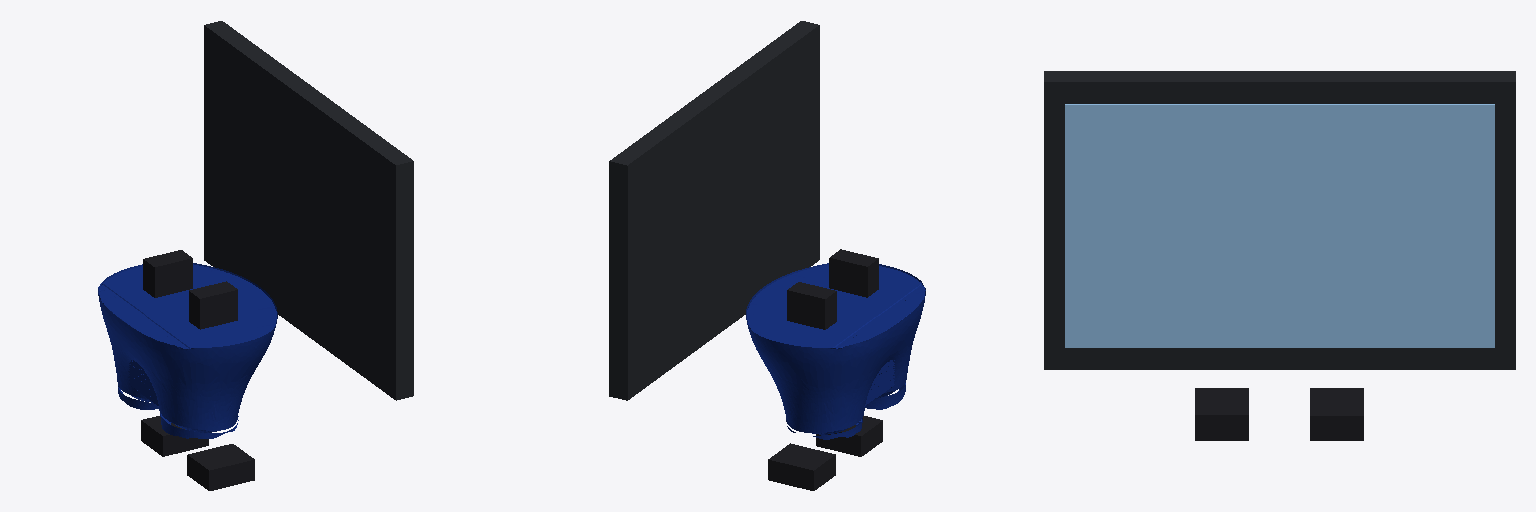
robot.urdf — haetburi:
<?xml version="1.0"?>
<!-- Haetburi biped (v17_sts3032_w4) - generated by tools/build_model.py, do not edit by hand -->
<robot name="haetburi">
  <mujoco>
    <compiler meshdir="." balanceinertia="true" discardvisual="false" strippath="false" fusestatic="false"/>
  </mujoco>
  <material name="display"><color rgba="0.18 0.19 0.21 1"/></material>
  <material name="screen"><color rgba="0.62 0.80 0.95 1"/></material>
  <material name="shell"><color rgba="0.106 0.216 0.541 1"/></material>
  <material name="motor"><color rgba="0.15 0.15 0.17 1"/></material>
  <material name="foot"><color rgba="0.25 0.25 0.28 1"/></material>
  <link name="world"/>
  <joint name="floating_base" type="floating">
    <parent link="world"/><child link="pelvis"/>
    <origin xyz="0 0 0" rpy="0 0 0"/>
  </joint>
  <link name="pelvis">
    <inertial>
      <origin xyz="-0.00610925 9.50716e-06 0.0405152" rpy="0 0 0"/>
      <mass value="0.292915"/>
      <inertia ixx="0.00030735" ixy="8.35174e-07" ixz="8.23488e-05" iyy="0.000357816" iyz="8.25968e-07" izz="0.000307664"/>
    </inertial>
    <visual><origin xyz="0 0 0" rpy="0 0 0"/><geometry><mesh filename="meshes/pelvis.stl"/></geometry><material name="shell"/></visual>
    <visual><origin xyz="0.00600244 0.0226798 0.05175" rpy="0 0 0"/><geometry><box size="0.023 0.012 0.0275"/></geometry><material name="motor"/></visual>
    <visual><origin xyz="0.00699756 -0.0229596 0.05175" rpy="0 0 0"/><geometry><box size="0.023 0.012 0.0275"/></geometry><material name="motor"/></visual>
    <collision><origin xyz="0.0069175 -0.000135522 0.0201274" rpy="0 0 0"/><geometry><box size="0.0829374 0.110136 0.0565319"/></geometry></collision>
  </link>
  <link name="torso">
    <inertial>
      <origin xyz="0.0238953 7.63336e-05 0.103132" rpy="0 0 0"/>
      <mass value="1.599"/>
      <inertia ixx="0.0205747" ixy="-4.70239e-05" ixz="0.00355319" iyy="0.0202897" iyz="-5.01842e-05" izz="0.0117163"/>
    </inertial>
    <visual><origin xyz="0 0 0" rpy="0 0 0"/><geometry><mesh filename="meshes/torso.stl"/></geometry><material name="shell"/></visual>
    <visual><origin xyz="0.0778284 0 0.0371177" rpy="0 0 0"/><geometry><box size="0.010948 0.200396 0.13547"/></geometry><material name="display"/></visual>
    <visual><origin xyz="0.0833024 0 0.0371177" rpy="0 0 0"/><geometry><box size="0.0004 0.182784 0.11424"/></geometry><material name="screen"/></visual>
    <collision><origin xyz="-0.0361353 -1.68216e-06 0.0266592" rpy="0 0 0"/><geometry><box size="0.169615 0.115011 0.113262"/></geometry></collision>
    <collision><origin xyz="0.0441252 0.0890865 0.0537203" rpy="0 0 0"/><geometry><sphere radius="0.0644414"/></geometry></collision>
    <collision><origin xyz="0.0444303 -0.0892231 0.0537203" rpy="0 0 0"/><geometry><sphere radius="0.0643794"/></geometry></collision>
    <collision><origin xyz="-0.00553846 0.000283241 0.108755" rpy="0 0 0"/><geometry><sphere radius="0.11053"/></geometry></collision>
    <collision><origin xyz="-0.00965095 -0.00013022 0.159651" rpy="0 0 0"/><geometry><sphere radius="0.127519"/></geometry></collision>
    <collision><origin xyz="-0.0146957 -0.000214924 0.210557" rpy="0 0 0"/><geometry><sphere radius="0.126041"/></geometry></collision>
    <collision><origin xyz="-0.0115287 0.000907909 0.261459" rpy="0 0 0"/><geometry><sphere radius="0.109598"/></geometry></collision>
    <collision><origin xyz="-0.00682188 0.00718636 0.312393" rpy="0 0 0"/><geometry><sphere radius="0.0781179"/></geometry></collision>
    <collision><origin xyz="-0.012502 -0.00237525 0.363282" rpy="0 0 0"/><geometry><sphere radius="0.0453342"/></geometry></collision>
    <collision><origin xyz="0.0778284 0 0.0371177" rpy="0 0 0"/><geometry><box size="0.010948 0.200396 0.13547"/></geometry></collision>
  </link>
  <link name="leg_l">
    <inertial>
      <origin xyz="-0.000485724 0.00188918 -0.0283227" rpy="0 0 0"/>
      <mass value="0.0342656"/>
      <inertia ixx="1.15863e-05" ixy="-1.82618e-08" ixz="7.92926e-08" iyy="9.66639e-06" iyz="1.56223e-08" izz="4.2911e-06"/>
    </inertial>
    <visual><origin xyz="0 0 0" rpy="0 0 0"/><geometry><mesh filename="meshes/leg_l.stl"/></geometry><material name="shell"/></visual>
    <collision><origin xyz="-0.000246323 0.00227676 -0.0235691" rpy="0 0 0"/><geometry><box size="0.0422678 0.0380901 0.00552114"/></geometry></collision>
  </link>
  <link name="hip_l">
    <inertial>
      <origin xyz="0 -0.00169586 0.0195876" rpy="0 0 0"/>
      <mass value="0.0359266"/>
      <inertia ixx="2.75364e-06" ixy="0" ixz="0" iyy="1.47051e-06" iyz="2.28102e-08" izz="1.88312e-06"/>
    </inertial>
    <visual><origin xyz="0 -0.002 0.0205" rpy="0 0 0"/><geometry><box size="0.012 0.0275 0.023"/></geometry><material name="motor"/></visual>
  </link>
  <link name="foot_l">
    <inertial>
      <origin xyz="0.000379982 0.00454592 -0.000993857" rpy="0 0 0"/>
      <mass value="0.0859819"/>
      <inertia ixx="1.68751e-05" ixy="-8.22236e-07" ixz="-1.78481e-07" iyy="2.55293e-05" iyz="-7.59144e-07" izz="2.96581e-05"/>
    </inertial>
    <visual><origin xyz="0 0 0" rpy="0 0 0"/><geometry><mesh filename="meshes/foot_l.stl"/></geometry><material name="shell"/></visual>
    <visual><origin xyz="0 0.0055 3.36778e-19" rpy="0 0 0"/><geometry><box size="0.0275 0.023 0.012"/></geometry><material name="motor"/></visual>
    <collision><origin xyz="0 0 0" rpy="0 0 0"/><geometry><mesh filename="meshes/foot_l.stl"/></geometry></collision>
  </link>
  <link name="leg_r">
    <inertial>
      <origin xyz="-0.000764726 -0.00238582 -0.0289208" rpy="0 0 0"/>
      <mass value="0.0352523"/>
      <inertia ixx="1.20498e-05" ixy="3.06836e-09" ixz="1.61846e-07" iyy="1.01783e-05" iyz="-1.8703e-08" izz="4.75363e-06"/>
    </inertial>
    <visual><origin xyz="0 0 0" rpy="0 0 0"/><geometry><mesh filename="meshes/leg_r.stl"/></geometry><material name="shell"/></visual>
    <collision><origin xyz="-0.00142742 -0.00269772 -0.0232627" rpy="0 0 0"/><geometry><box size="0.0423493 0.038395 0.00784336"/></geometry></collision>
  </link>
  <link name="hip_r">
    <inertial>
      <origin xyz="0 0.00211983 0.0204355" rpy="0 0 0"/>
      <mass value="0.0359266"/>
      <inertia ixx="2.78263e-06" ixy="0" ixz="0" iyy="1.49523e-06" iyz="-3.32649e-08" izz="1.8874e-06"/>
    </inertial>
    <visual><origin xyz="0 0.0025 0.0215" rpy="0 0 0"/><geometry><box size="0.012 0.0275 0.023"/></geometry><material name="motor"/></visual>
  </link>
  <link name="foot_r">
    <inertial>
      <origin xyz="0.000483094 -0.00458102 -0.0010322" rpy="0 0 0"/>
      <mass value="0.0857989"/>
      <inertia ixx="1.67672e-05" ixy="8.78849e-07" ixz="-1.59698e-07" iyy="2.54142e-05" iyz="7.68938e-07" izz="2.95706e-05"/>
    </inertial>
    <visual><origin xyz="0 0 0" rpy="0 0 0"/><geometry><mesh filename="meshes/foot_r.stl"/></geometry><material name="shell"/></visual>
    <visual><origin xyz="0 -0.0055 3.36778e-19" rpy="0 0 0"/><geometry><box size="0.0275 0.023 0.012"/></geometry><material name="motor"/></visual>
    <collision><origin xyz="0 0 0" rpy="0 0 0"/><geometry><mesh filename="meshes/foot_r.stl"/></geometry></collision>
  </link>
  <joint name="waist_fixed" type="fixed">
    <parent link="pelvis"/><child link="torso"/>
    <origin xyz="0 0 0.0483933" rpy="0 0 0"/>
  </joint>
  <joint name="hip_yaw_l" type="revolute">
    <parent link="pelvis"/><child link="hip_l"/>
    <origin xyz="0.000502443 0.0226798 0" rpy="0 0 0"/>
    <axis xyz="0 0 1"/>
    <limit lower="-0.296706" upper="0.296706" effort="0.44" velocity="11.6"/>
    <dynamics damping="0.03142857142857144" friction="0.012571428571428574"/>
  </joint>
  <joint name="hip_pitch_l" type="revolute">
    <parent link="hip_l"/><child link="leg_l"/>
    <origin xyz="0 -0.002 0.015" rpy="0 0 0"/>
    <axis xyz="0 1 0"/>
    <limit lower="-0.506145" upper="0.383972" effort="0.44" velocity="11.6"/>
    <dynamics damping="0.03142857142857144" friction="0.012571428571428574"/>
  </joint>
  <joint name="hip_yaw_r" type="revolute">
    <parent link="pelvis"/><child link="hip_r"/>
    <origin xyz="0.00149756 -0.0229596 0" rpy="0 0 0"/>
    <axis xyz="0 0 1"/>
    <limit lower="-0.296706" upper="0.296706" effort="0.44" velocity="11.6"/>
    <dynamics damping="0.03142857142857144" friction="0.012571428571428574"/>
  </joint>
  <joint name="hip_pitch_r" type="revolute">
    <parent link="hip_r"/><child link="leg_r"/>
    <origin xyz="0 0.0025 0.016" rpy="0 0 0"/>
    <axis xyz="0 1 0"/>
    <limit lower="-0.506145" upper="0.383972" effort="0.44" velocity="11.6"/>
    <dynamics damping="0.03142857142857144" friction="0.012571428571428574"/>
  </joint>
  <joint name="ankle_roll_l" type="revolute">
    <parent link="leg_l"/><child link="foot_l"/>
    <origin xyz="0.0105067 -0.00181269 -0.0518067" rpy="0 0 0"/>
    <axis xyz="1 0 0"/>
    <limit lower="-0.261799" upper="0.261799" effort="0.44" velocity="11.6"/>
    <dynamics damping="0.03142857142857144" friction="0.012571428571428574"/>
  </joint>
  <joint name="ankle_roll_r" type="revolute">
    <parent link="leg_r"/><child link="foot_r"/>
    <origin xyz="0.00922108 0.0013598 -0.0528067" rpy="0 0 0"/>
    <axis xyz="1 0 0"/>
    <limit lower="-0.261799" upper="0.261799" effort="0.44" velocity="11.6"/>
    <dynamics damping="0.03142857142857144" friction="0.012571428571428574"/>
  </joint>
</robot>

--- Facts derived from the render (not from the file) ---
3 views of the same robot in one strip: view 1: azimuth 30°, elevation 25°; view 2: azimuth 150°, elevation 25°; view 3: azimuth 270°, elevation 25° (orthographic).
Robot: haetburi — 9 links, 8 joints (6 revolute, 1 fixed, 1 floating); root link world; default pose: all joints at 0.
Links seen in each view (by area): view 1: torso, pelvis, foot_r, foot_l; view 2: torso, pelvis, foot_l, foot_r; view 3: torso, foot_l, foot_r.
Link boxes in pixels (x1,y1,x2,y2): torso: [204, 21, 413, 400]; pelvis: [98, 250, 277, 432]; foot_r: [187, 444, 254, 490]; foot_l: [141, 416, 208, 456]; torso: [609, 21, 819, 400]; pelvis: [746, 249, 925, 434]; foot_l: [768, 443, 835, 490]; foot_r: [816, 416, 882, 456]; torso: [1044, 71, 1515, 369]; foot_l: [1310, 388, 1363, 440]; foot_r: [1195, 388, 1248, 440].
Size in the robot's own frame: 0.1181 by 0.2004 by 0.1961 metres.
3 mesh visuals loaded from 6 distinct referenced files (3 binary STL); not drawn: 3 (reference not matched to a file when rendering).
